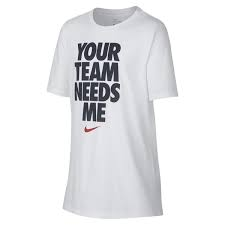nike: (81, 122, 111, 137)
